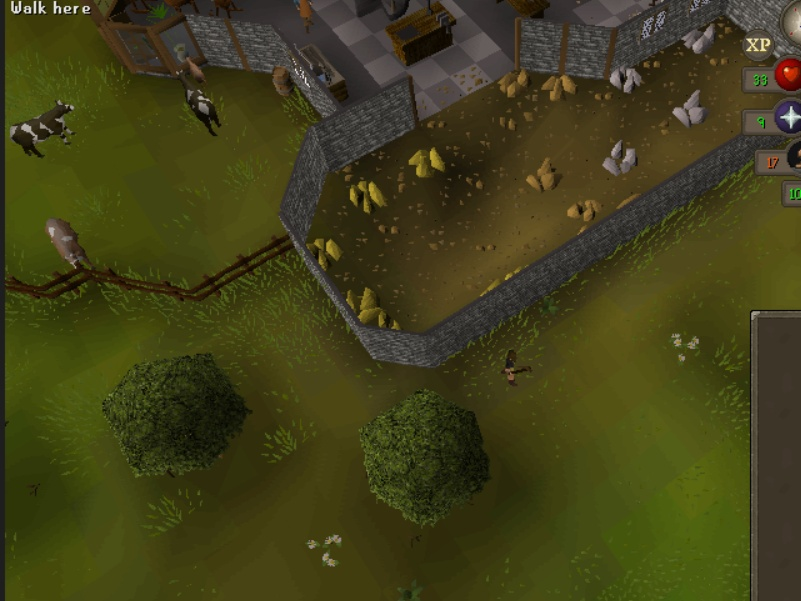clay: (518, 154, 570, 196), (484, 62, 536, 104), (534, 65, 586, 107), (558, 186, 610, 228)
gold: (342, 174, 394, 216), (399, 140, 451, 182), (297, 231, 349, 273), (331, 282, 383, 324)
silver: (608, 54, 648, 98), (602, 136, 642, 180), (671, 86, 711, 130), (681, 14, 721, 58)
